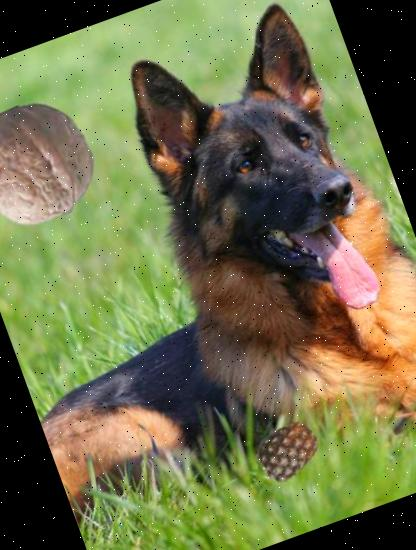Pineapple: (244, 408, 330, 495)
Walnut: (0, 86, 111, 242)
